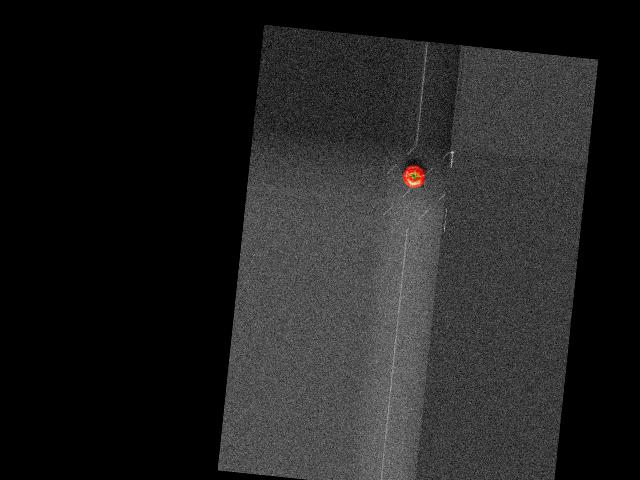tomato: (401, 164, 426, 189)
